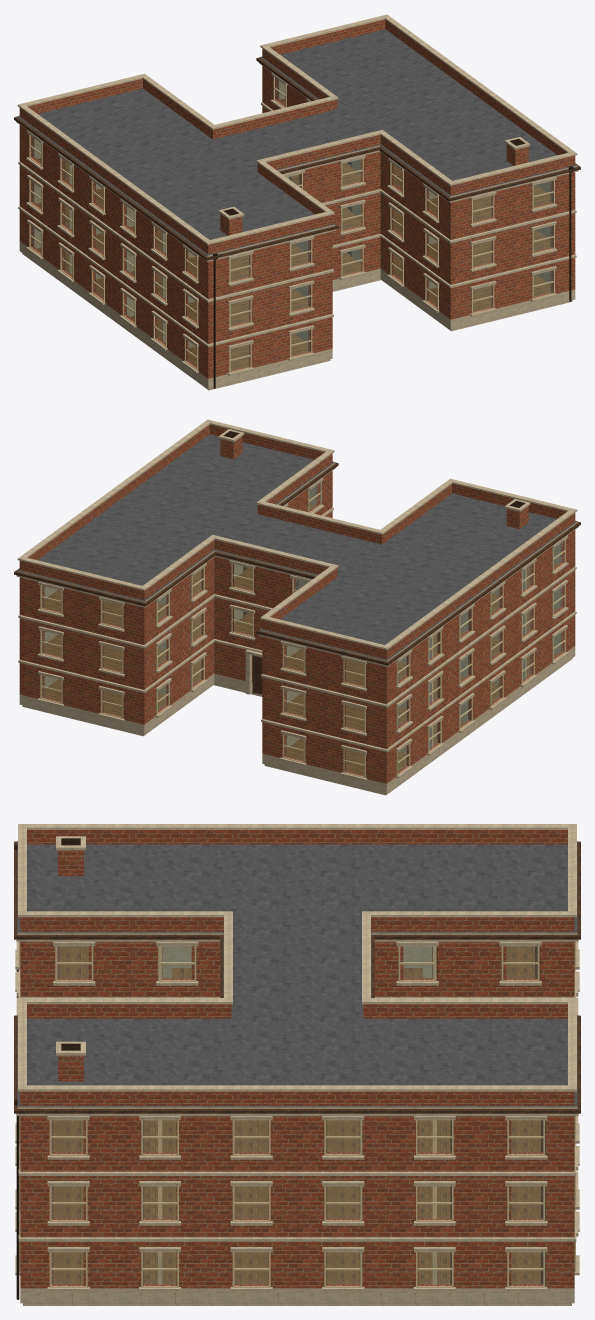
File: alder-court.gltf
The picture shows the model from 3 angles, top to bottom: view 1: azimuth 30°, elevation 25°; view 2: azimuth 150°, elevation 25°; view 3: azimuth 270°, elevation 25°; orthographic projection. The views are drawn at different scales.
Visible parts, largest first — view 1: roof-L3-felt, exterior-L1-brick, exterior-L2-brick, parapet-L3-brick, exterior-L0-brick, parapet-L3-stone, exterior-L0-stone, facade-trim-L2-stone, facade-trim-L1-stone, glazing-L2-glass, glazing-L1-glass, glazing-L0-glass (+16 smaller); view 2: roof-L3-felt, exterior-L1-brick, exterior-L2-brick, exterior-L0-brick, parapet-L3-brick, parapet-L3-stone, exterior-L0-stone, facade-trim-L2-stone, facade-trim-L1-stone, glazing-L2-glass, glazing-L1-glass, cornice-L3-door (+14 smaller); view 3: roof-L3-felt, exterior-L2-brick, parapet-L3-brick, exterior-L1-brick, exterior-L0-brick, parapet-L3-stone, glazing-L2-glass, facade-trim-L2-stone, exterior-L0-stone, floor-L2-wood, cornice-L3-door, facade-trim-L1-stone (+15 smaller).
Boxes of the visible parts, <box> form: roof-L3-felt: <box>17,29,577,255</box>; exterior-L1-brick: <box>19,106,575,343</box>; exterior-L2-brick: <box>19,66,575,299</box>; parapet-L3-brick: <box>19,19,575,254</box>; exterior-L0-brick: <box>19,210,575,378</box>; parapet-L3-stone: <box>17,14,577,244</box>; exterior-L0-stone: <box>19,241,575,388</box>; facade-trim-L2-stone: <box>18,73,576,302</box>; facade-trim-L1-stone: <box>18,175,576,347</box>; glazing-L2-glass: <box>32,79,552,280</box>; glazing-L1-glass: <box>32,182,552,325</box>; glazing-L0-glass: <box>32,227,552,370</box>; roof-L3-felt: <box>17,434,577,660</box>; exterior-L1-brick: <box>19,511,575,748</box>; exterior-L2-brick: <box>19,471,575,704</box>; exterior-L0-brick: <box>19,581,575,783</box>; parapet-L3-brick: <box>19,424,575,659</box>; parapet-L3-stone: <box>17,419,577,649</box>; exterior-L0-stone: <box>19,646,575,793</box>; facade-trim-L2-stone: <box>18,478,576,707</box>; facade-trim-L1-stone: <box>18,579,576,752</box>; glazing-L2-glass: <box>42,484,562,685</box>; glazing-L1-glass: <box>42,580,562,730</box>; cornice-L3-door: <box>14,462,580,665</box>; roof-L3-felt: <box>17,841,577,1106</box>; exterior-L2-brick: <box>20,941,574,1171</box>; parapet-L3-brick: <box>20,830,574,1105</box>; exterior-L1-brick: <box>20,1176,574,1237</box>; exterior-L0-brick: <box>20,1242,574,1288</box>; parapet-L3-stone: <box>18,824,576,1091</box>; glazing-L2-glass: <box>52,946,542,1152</box>; facade-trim-L2-stone: <box>15,941,579,1175</box>; exterior-L0-stone: <box>20,1288,574,1303</box>; floor-L2-wood: <box>54,946,540,1151</box>; cornice-L3-door: <box>14,841,580,1113</box>; facade-trim-L1-stone: <box>15,941,579,1241</box>.
Size of the model in its own units: 18.52 by 7.43 by 16.52.
9 materials, 8 textured.
